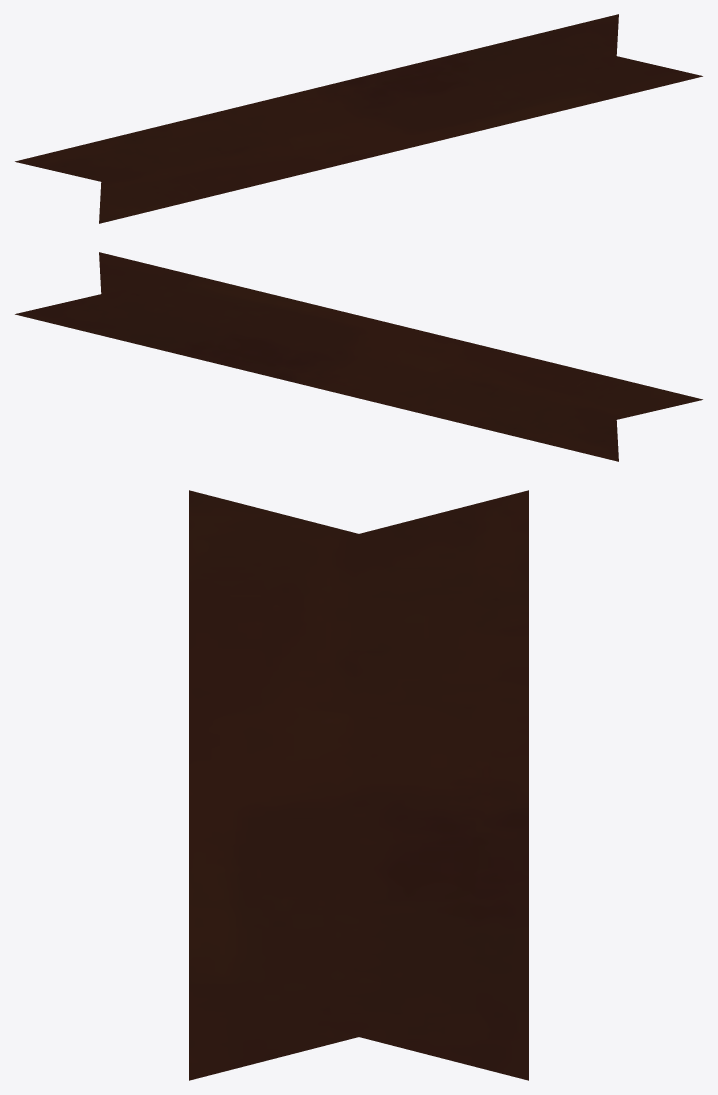
Rendered from Rug_1.gltf.
The picture shows the model from 3 angles, top to bottom: view 1: azimuth 30°, elevation 25°; view 2: azimuth 150°, elevation 25°; view 3: azimuth 270°, elevation 25°; orthographic projection. The views are drawn at different scales.
Visible parts, largest first — view 1: Rug_1; view 2: Rug_1; view 3: Rug_1.
Part boxes in pixels (x1,y1,x2,y2): Rug_1: (15, 14, 702, 223); Rug_1: (15, 252, 702, 461); Rug_1: (189, 490, 528, 1080).
Bounding box in the file's own units: 1.47 × 5.96e-08 × 0.3587.
1 material, 1 textured.
